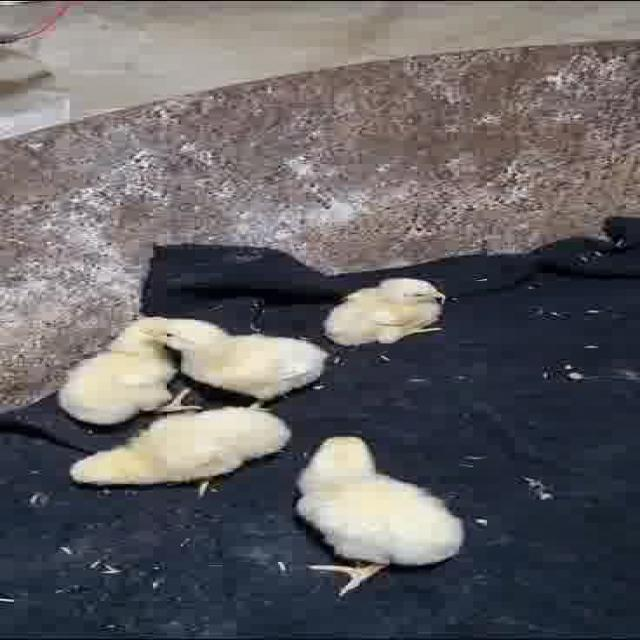poussin: (292, 432, 476, 598), (70, 399, 290, 495), (142, 315, 326, 399), (55, 313, 178, 420), (325, 274, 459, 348)
